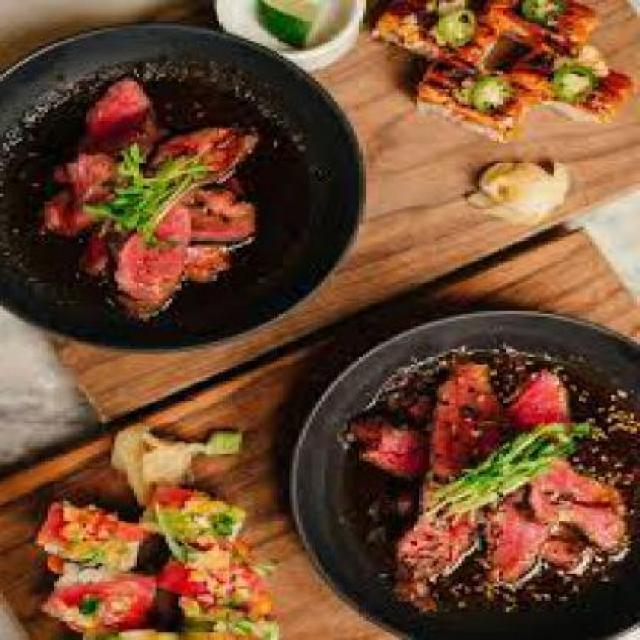steak: (328, 339, 634, 610), (35, 74, 271, 323)
sushi: (25, 479, 270, 627)
